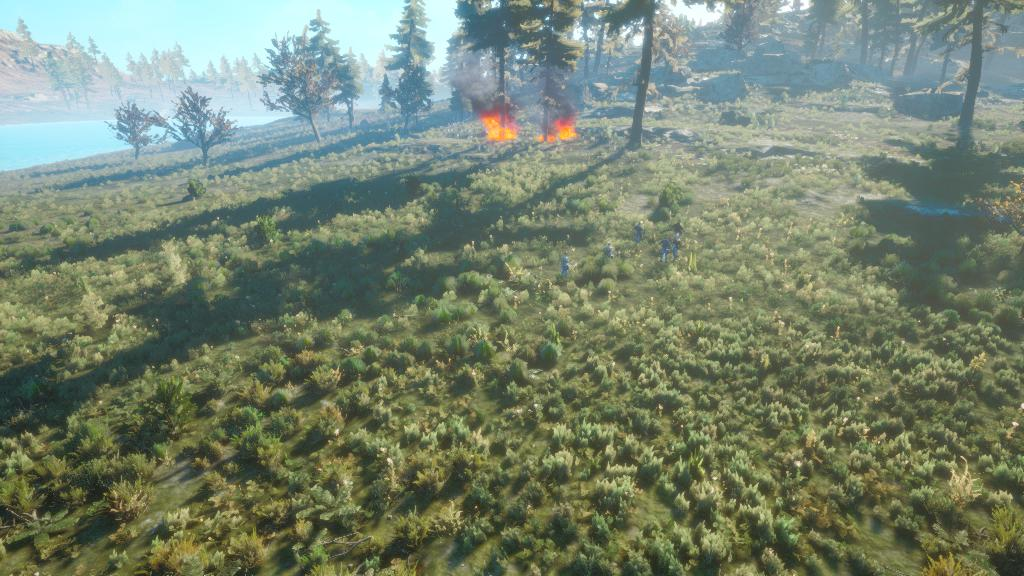Fire: (484, 112, 520, 146), (539, 120, 578, 145)
human: (655, 210, 688, 270), (546, 247, 581, 287), (629, 208, 651, 260), (598, 232, 621, 273)
smoke: (533, 82, 572, 117), (469, 76, 503, 110)
